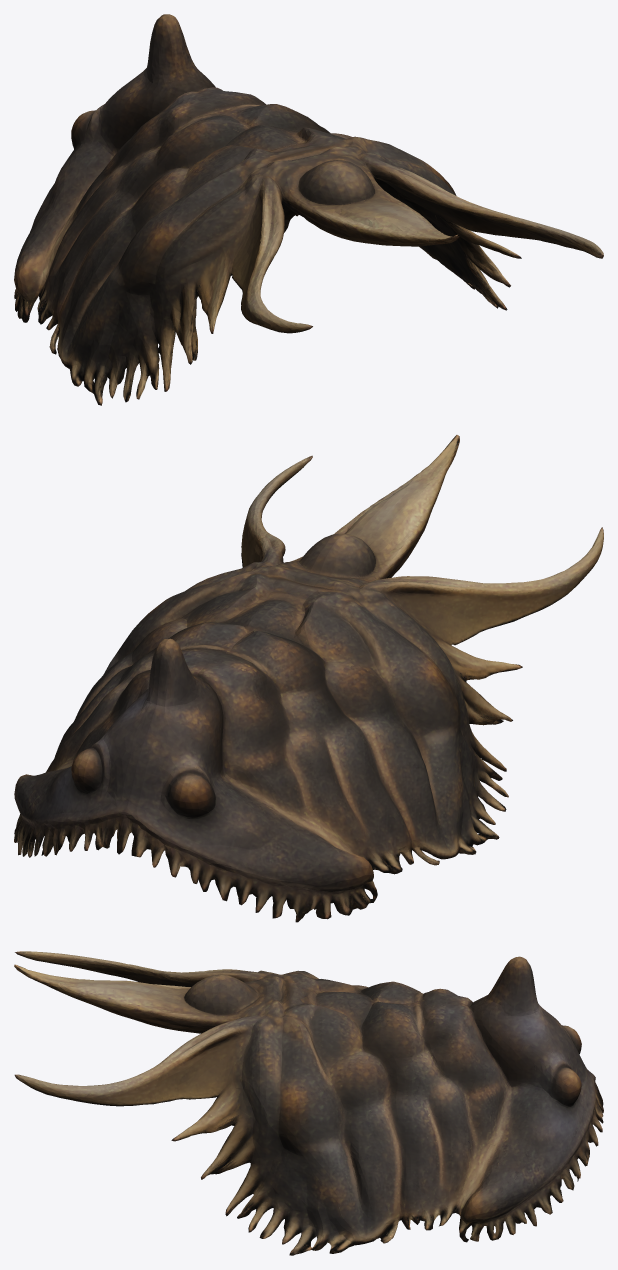
The picture shows the model from 3 angles, top to bottom: view 1: azimuth 30°, elevation 25°; view 2: azimuth 150°, elevation 25°; view 3: azimuth 270°, elevation 25°; orthographic projection. The views are drawn at different scales.
Parts seen in each view (by area): view 1: world; view 2: world; view 3: world.
Boxes of the visible parts, x1,y1,x2,y2 form: world: (14,14,603,405); world: (14,435,603,922); world: (14,951,603,1255).
Size of the model in its own units: 0.6823 by 0.4004 by 0.9995.
Materials: 1 (1 with a texture image).
